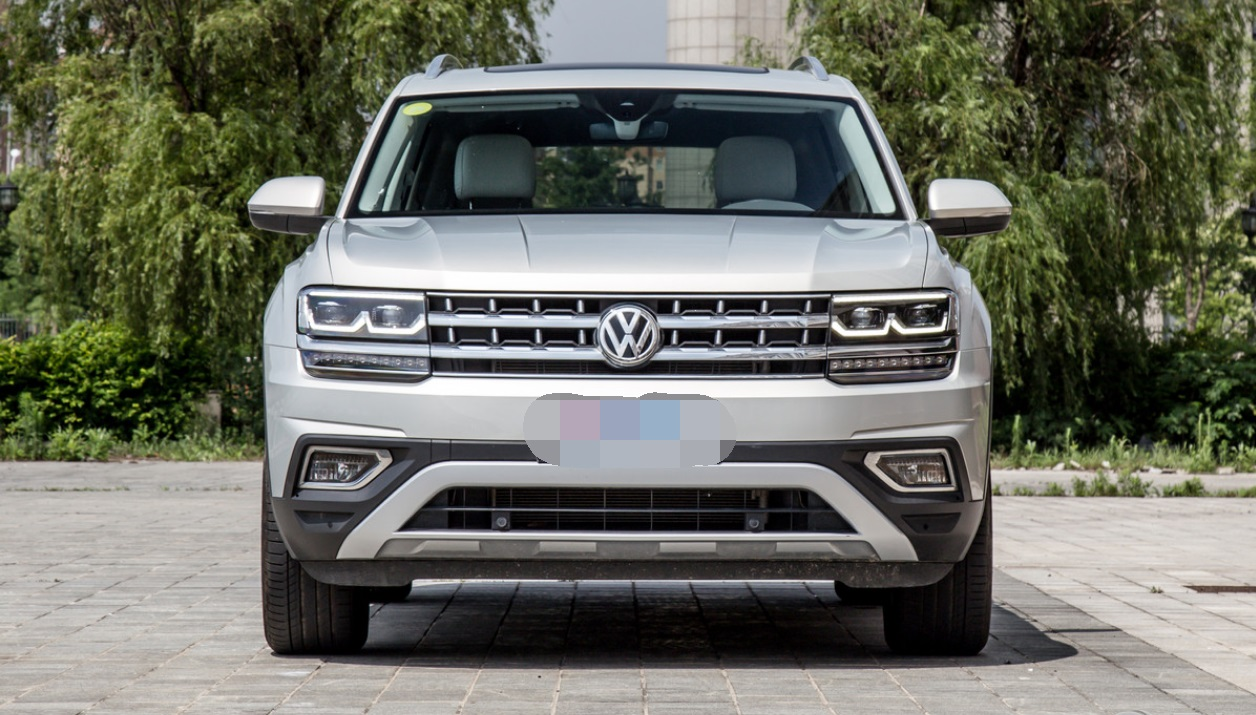SUV: (247, 51, 1020, 660)
